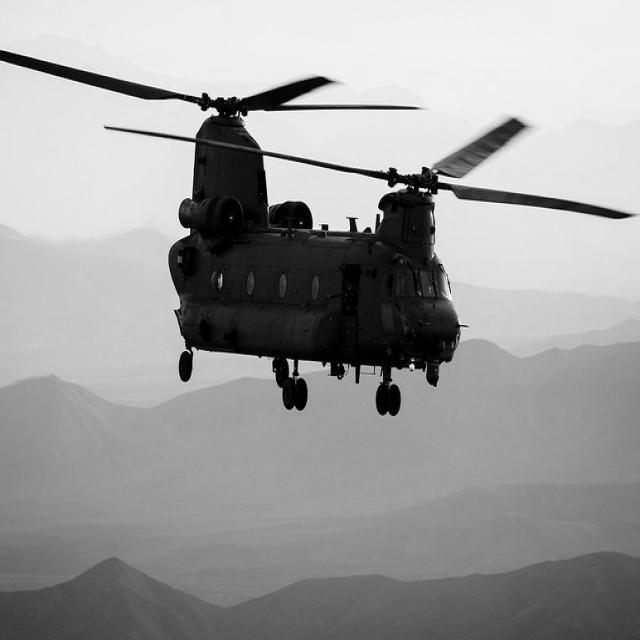helicopter: (1, 37, 640, 413)
